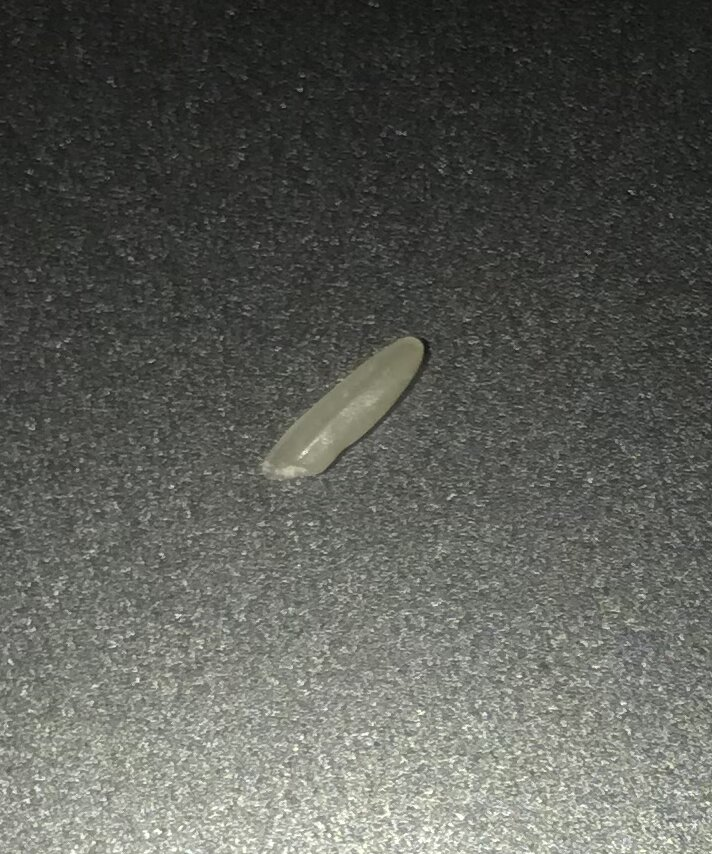Gao Long Lai: (252, 317, 436, 510)
